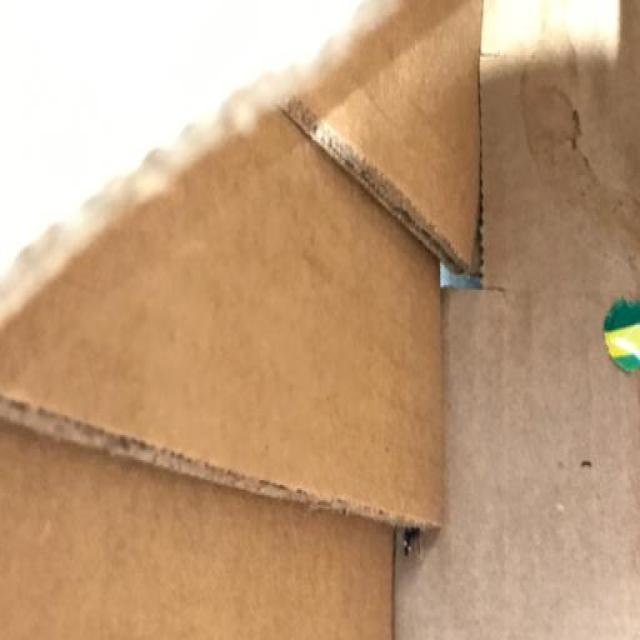Cardboard: (1, 2, 639, 640)
